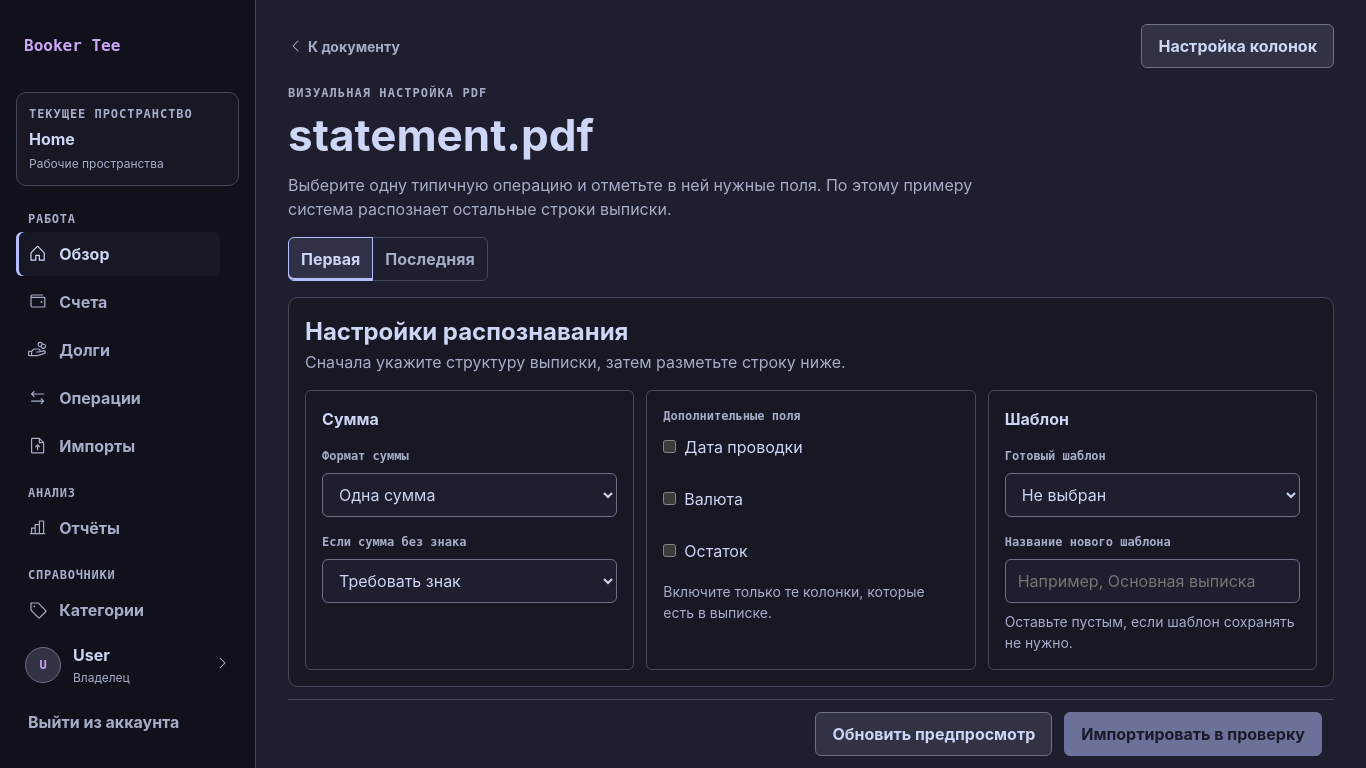
Test: VisualCoordinateMappingPage capability › shows every warning while preserving server import availability
Click the button "Обновить предпросмотр" at (934, 734), box x1=816 y1=712 x2=1052 y2=756
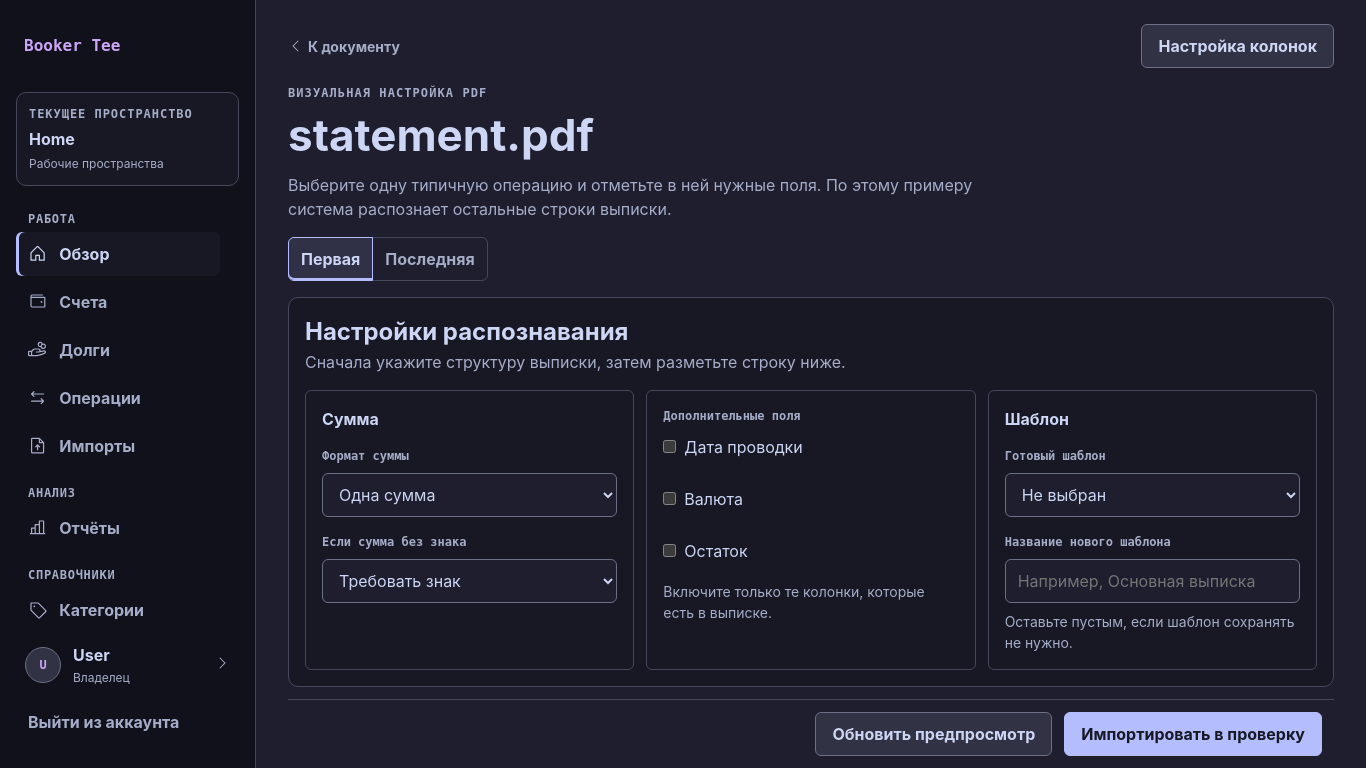
Expected: the button "Импортировать в проверку" is enabled, x1=1064 y1=712 x2=1322 y2=756
